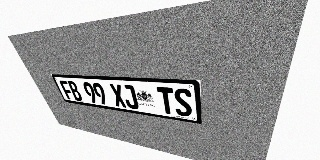9: (91, 82, 109, 105), (81, 82, 99, 104)
B: (66, 81, 84, 101)
F: (59, 80, 75, 100)
J: (121, 84, 139, 110)
S: (173, 88, 192, 117)
T: (156, 87, 176, 115)
X: (109, 84, 127, 108)
